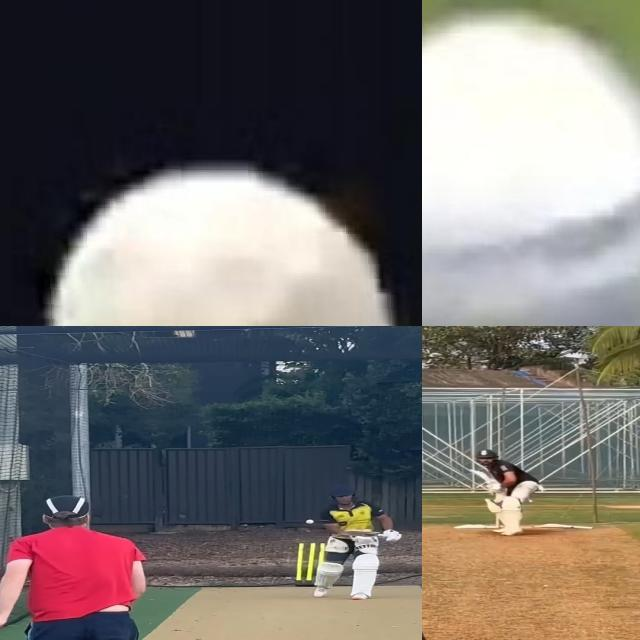Cricket ball: (10, 145, 410, 326), (422, 0, 640, 326), (304, 518, 316, 525)
Stumps: (292, 541, 324, 587)
